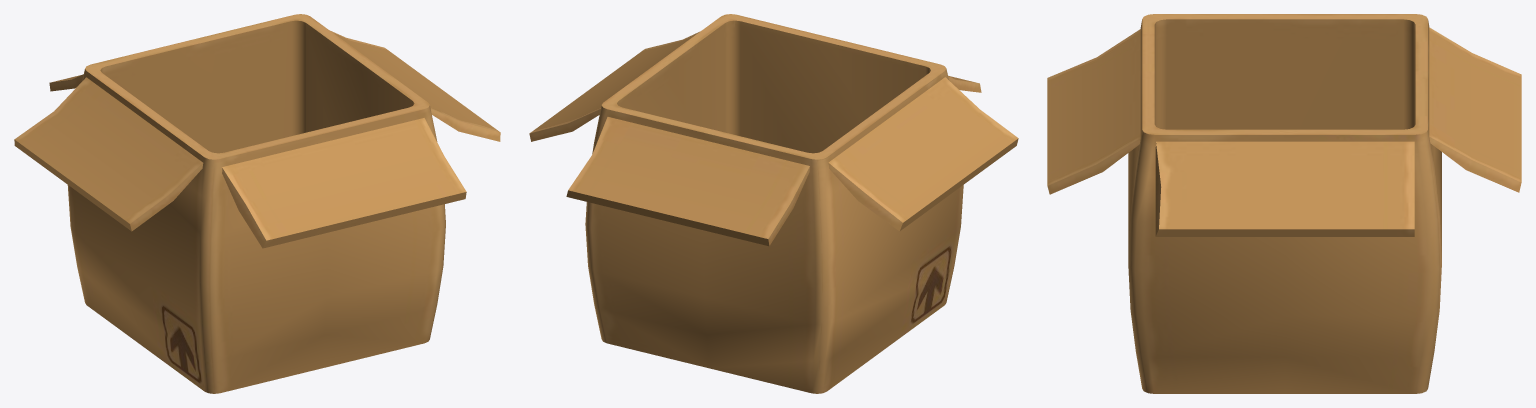
The model's file is Box_Open.fbx.
3 renders of one model, left to right at view 1: azimuth 30°, elevation 25°; view 2: azimuth 150°, elevation 25°; view 3: azimuth 270°, elevation 25°, orthographic. The views are drawn at different scales.
Visible parts, largest first — view 1: Box, polySurface3, polySurface4, polySurface1; view 2: Box, polySurface5, polySurface4, polySurface1; view 3: Box, polySurface1, polySurface5, polySurface3.
Part boxes in pixels (<box>): Box: <box>67,14,445,393</box>; polySurface3: <box>222,118,466,248</box>; polySurface4: <box>14,77,203,231</box>; polySurface1: <box>330,30,500,141</box>; Box: <box>585,14,963,393</box>; polySurface5: <box>566,117,809,246</box>; polySurface4: <box>828,77,1018,231</box>; polySurface1: <box>529,31,699,141</box>; Box: <box>1128,14,1441,393</box>; polySurface1: <box>1155,141,1414,236</box>; polySurface5: <box>1429,27,1521,192</box>; polySurface3: <box>1047,29,1140,194</box>.
Size of the model in its own units: 8.09 by 4.87 by 8.07.
1 material, 1 textured.
